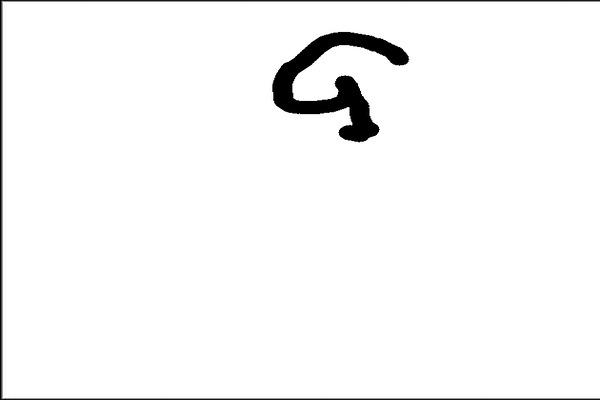G: (269, 29, 411, 151)
